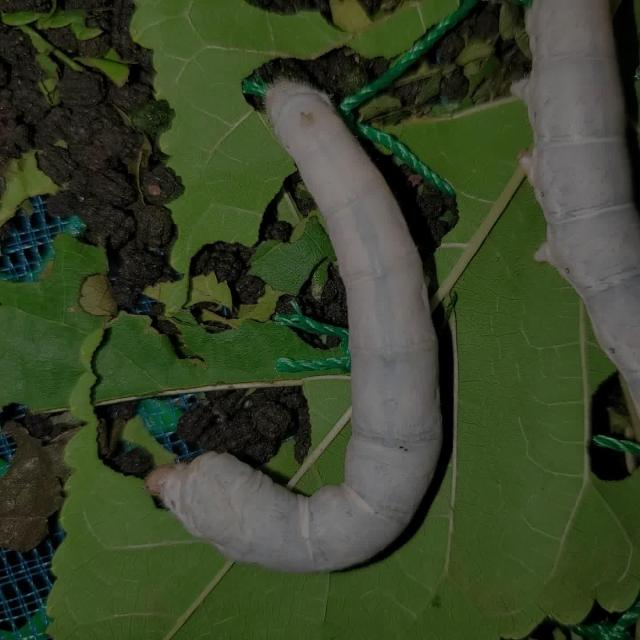Healthy: (125, 38, 452, 588), (499, 0, 640, 440)
